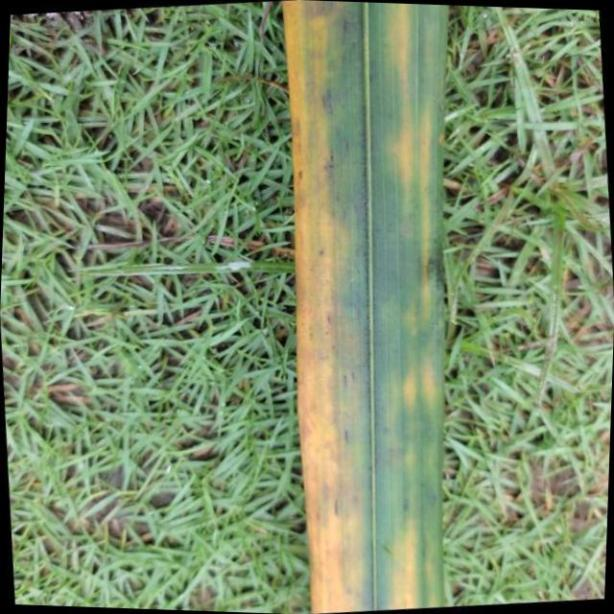Megnesium: (280, 0, 448, 614)
